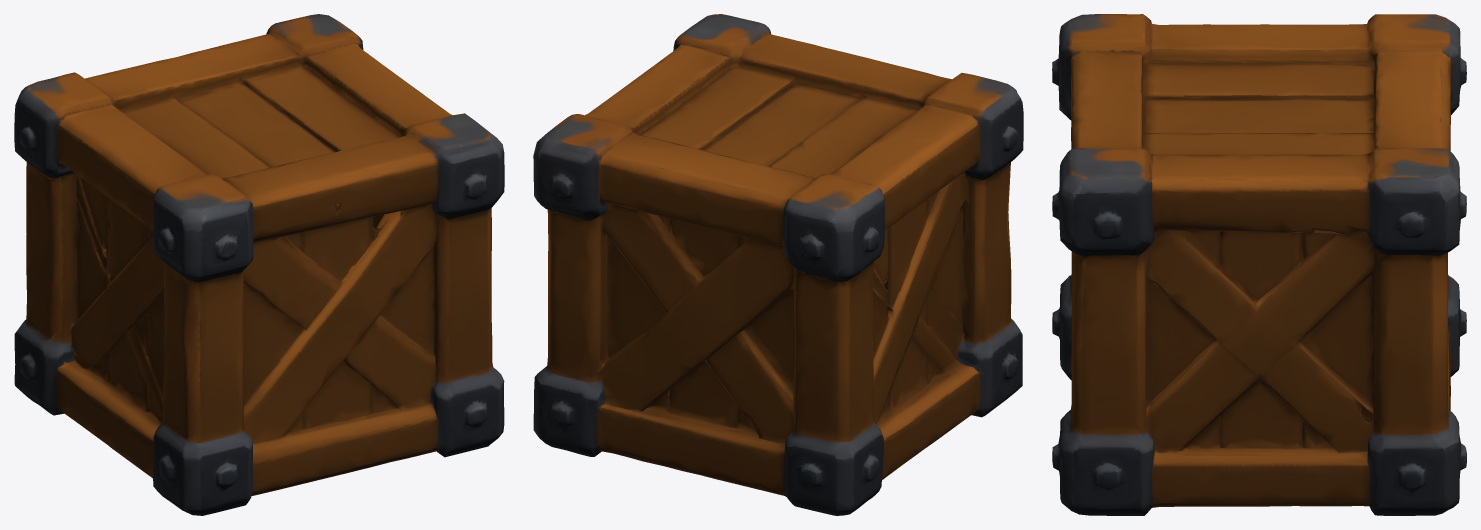
File: raw.glb
3 views of the same model, side by side, from view 1: azimuth 30°, elevation 25°; view 2: azimuth 150°, elevation 25°; view 3: azimuth 270°, elevation 25° (orthographic). The views are drawn at different scales.
Parts seen in each view (by area): view 1: geometry_0; view 2: geometry_0; view 3: geometry_0.
Boxes of the visible parts, x1,y1,x2,y2 form: geometry_0: (14, 14, 504, 515); geometry_0: (533, 14, 1023, 515); geometry_0: (1052, 14, 1466, 515).
Size of the model in its own units: 1 by 0.8931 by 0.9865.
Materials: 1 (1 with a texture image).
